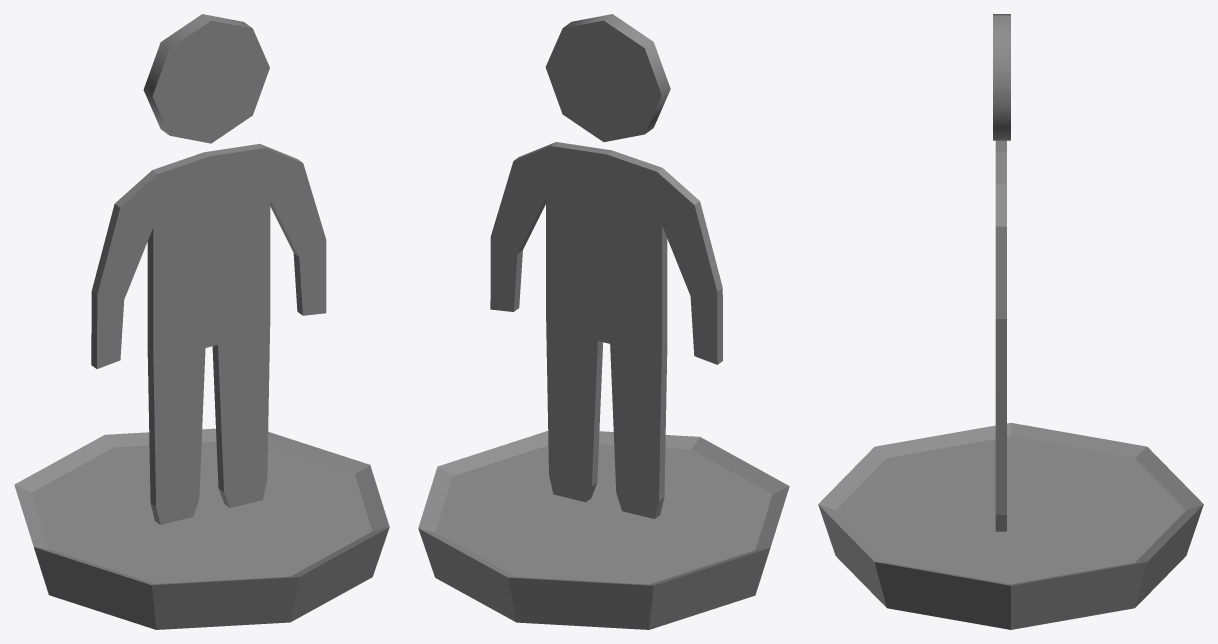
Rendered from Player-Piece-Stand.fbx.
3 renders of one model, left to right at view 1: azimuth 30°, elevation 25°; view 2: azimuth 150°, elevation 25°; view 3: azimuth 270°, elevation 25°, orthographic.
Visible parts, largest first — view 1: Player-Piece-Stand; view 2: Player-Piece-Stand; view 3: Player-Piece-Stand.
Part boxes in pixels (left/top/right/bottom): Player-Piece-Stand: left=14, top=14, right=389, bottom=629; Player-Piece-Stand: left=418, top=14, right=789, bottom=629; Player-Piece-Stand: left=818, top=14, right=1203, bottom=629.
Size of the model in its own units: 258 by 399 by 258.
1 material, 1 textured.
